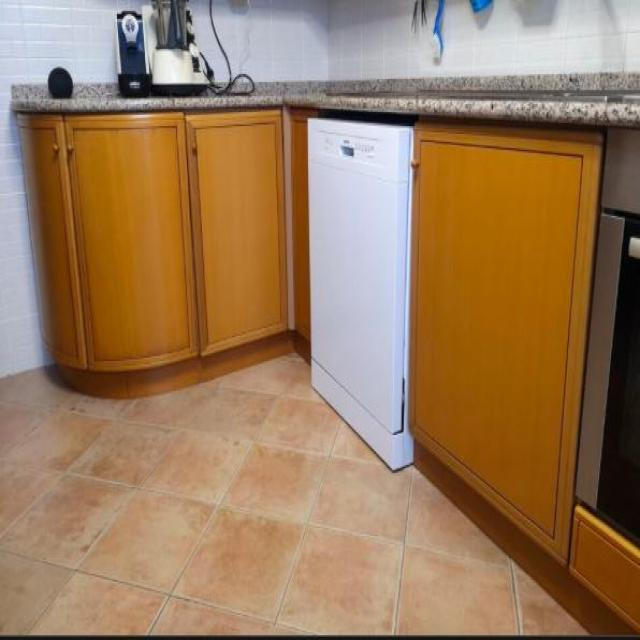dishwasher: (310, 115, 412, 470)
